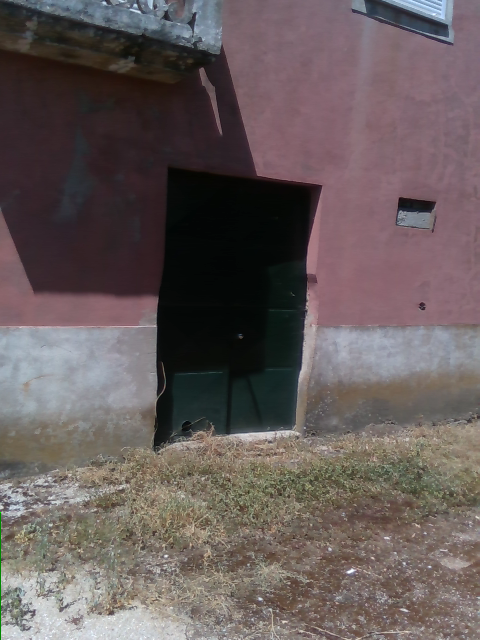closed: (140, 168, 320, 454)
